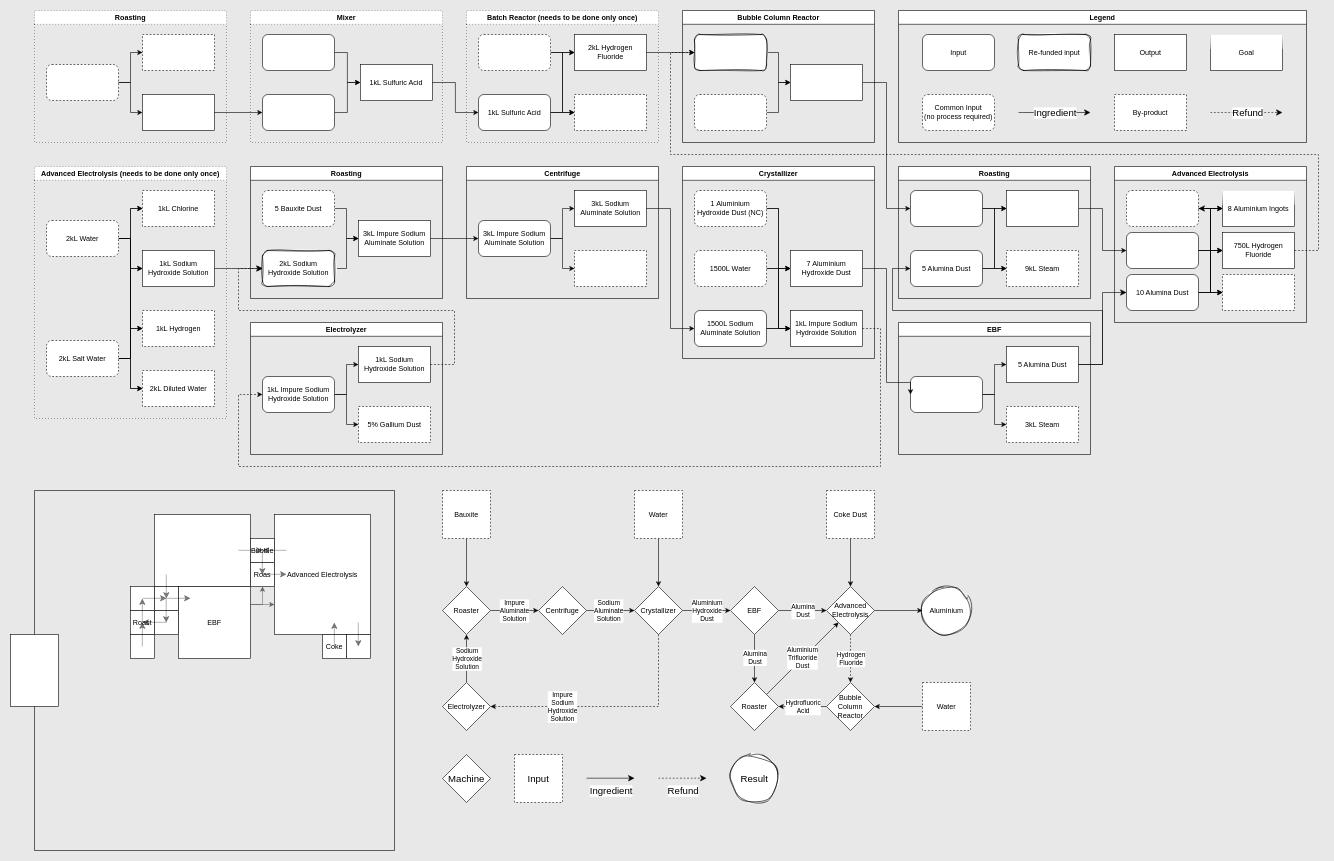
The diagram is 1334 pixels wide and 861 high, and some of its shapes have lost their labels. Each missing label, with the centre of its shape:
1 Aluminium Trifluoride Dust: (x=1162, y=250)
14 Aluminium Hydroxide Dust: (x=946, y=394)
1kL Sulfur Trioxide: (x=298, y=112)
1kL Water: (x=298, y=52)
3 Coke dust: (x=1162, y=208)
3 Fluorite Dust: (x=514, y=52)
3kL Carbon Dioxide: (x=1258, y=292)
3kL Sulfur Trioxide: (x=178, y=112)
500L Red Mud: (x=610, y=268)
50L Hydrofluoric Acid: (x=826, y=82)
50L Hydrogen Fluoride: (x=730, y=52)
50L Water: (x=730, y=112)
6 Calcium Sulfate Dust: (x=610, y=112)
6kL Hydrofluoric Acid: (x=946, y=208)
8 Aluminium Trifluoride Dust: (x=1042, y=208)
Al: (x=358, y=646)
Banded Iron Dust: (x=178, y=52)
Baux: (x=142, y=646)
Centr: (x=166, y=622)
Cryst: (x=166, y=598)
Elect: (x=142, y=598)
Entrance: (x=34, y=670)
Iron III Sulfate Dust: (x=82, y=82)
Water Pump: (x=202, y=550)
